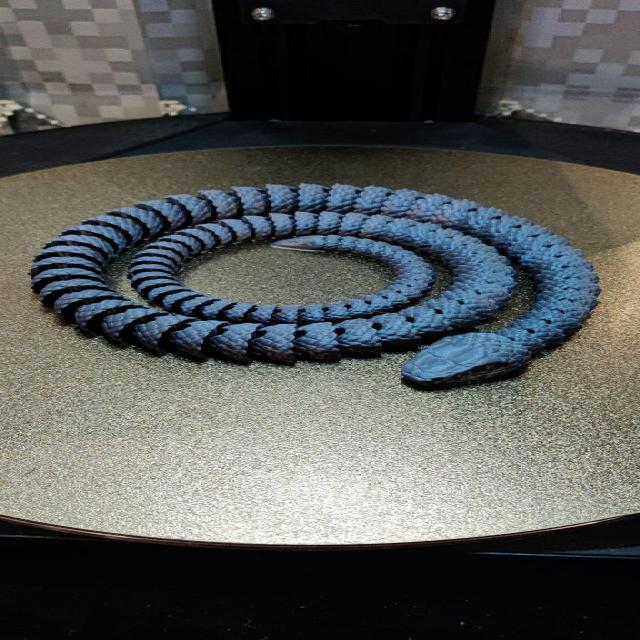Without deffect: (36, 180, 612, 407)
